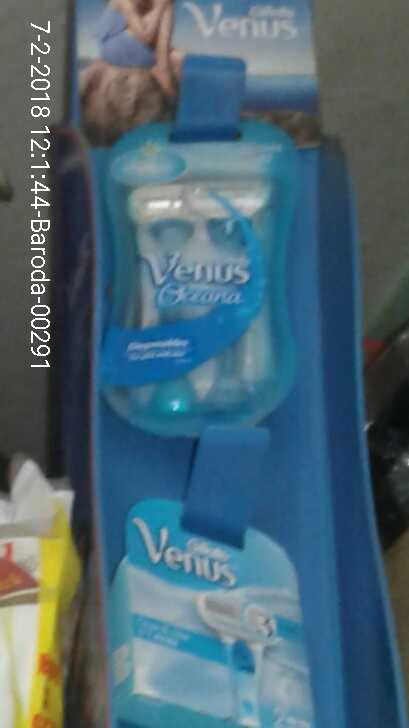venus: (106, 139, 299, 431), (101, 507, 327, 728)
